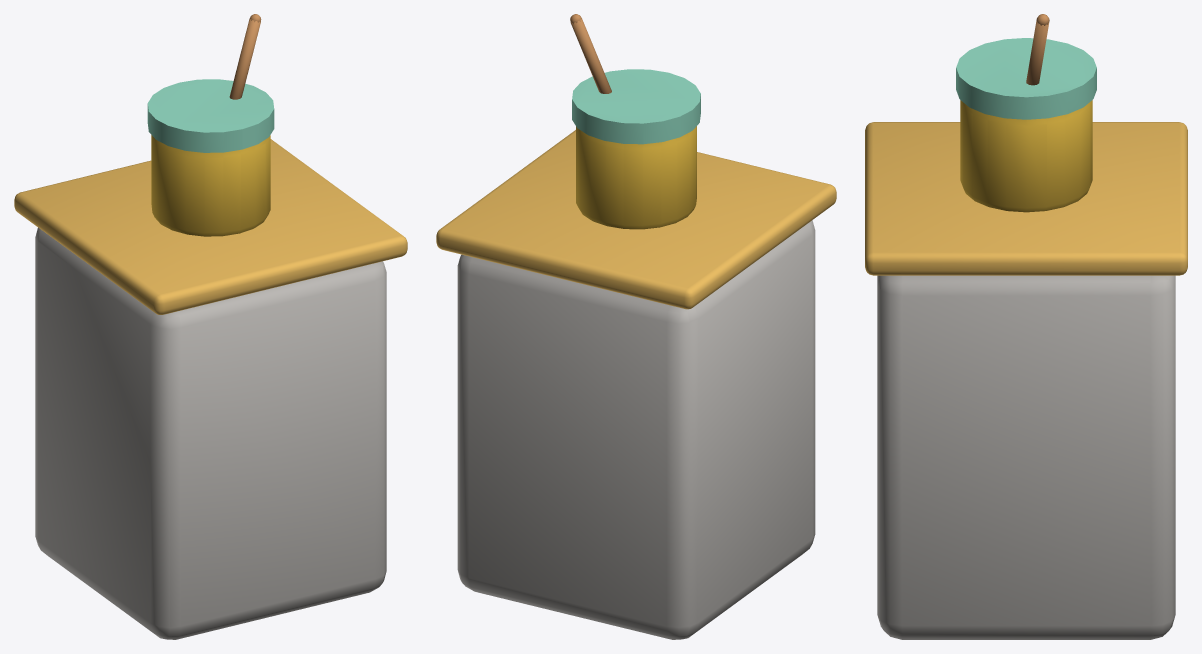
File: gift-bea.glb
3 renders of one model, left to right at view 1: azimuth 30°, elevation 25°; view 2: azimuth 150°, elevation 25°; view 3: azimuth 270°, elevation 25°, orthographic. The views are drawn at different scales.
Parts seen in each view (by area): view 1: gift-bea; view 2: gift-bea; view 3: gift-bea.
Boxes of the visible parts, x1=… form: gift-bea: x1=14, y1=14, x2=407, y2=639; gift-bea: x1=436, y1=14, x2=836, y2=639; gift-bea: x1=865, y1=14, x2=1187, y2=639.
Size of the model in its own units: 0.39 by 0.798 by 0.39.
